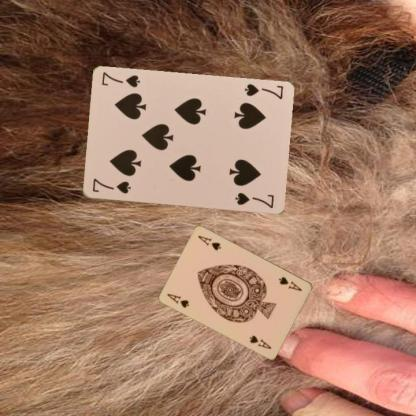7s: (242, 80, 284, 100), (90, 176, 132, 194)
As: (164, 290, 190, 310), (276, 274, 304, 292)
